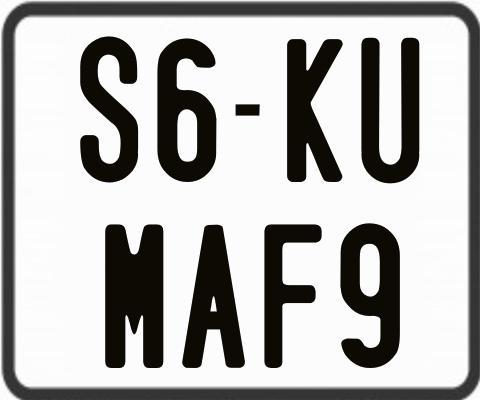6: (157, 35, 220, 179)
9: (338, 222, 403, 373)
A: (179, 224, 243, 371)
F: (264, 222, 322, 372)
K: (287, 36, 346, 181)
M: (104, 224, 164, 370)
S: (77, 36, 136, 187)
U: (361, 38, 419, 188)
